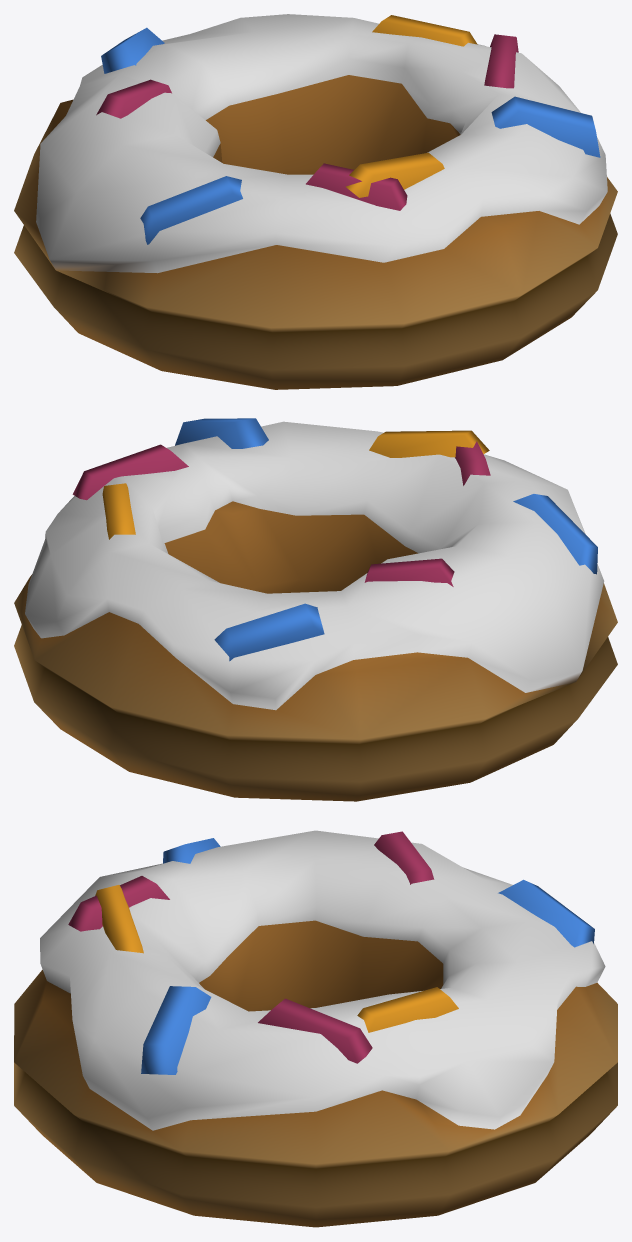
File: Donut.glb
3 renders of one model, top to bottom at view 1: azimuth 30°, elevation 25°; view 2: azimuth 150°, elevation 25°; view 3: azimuth 270°, elevation 25°, orthographic. The views are drawn at different scales.
Visible parts, largest first — view 1: MESH_Donut; view 2: MESH_Donut; view 3: MESH_Donut.
Part boxes in pixels (box(x1,y1,x2,y2)): MESH_Donut: box(14, 14, 617, 389); MESH_Donut: box(14, 418, 617, 801); MESH_Donut: box(14, 830, 617, 1227).
Bounding box in the file's own units: 1.77 × 0.6204 × 1.71.
